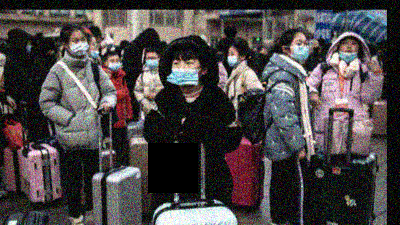mask_weared_incorrect: (339, 39, 357, 60), (87, 39, 100, 59)
with_mask: (170, 58, 202, 86), (67, 34, 88, 56), (289, 38, 309, 61), (226, 49, 239, 69), (144, 55, 158, 70), (108, 57, 120, 71)
